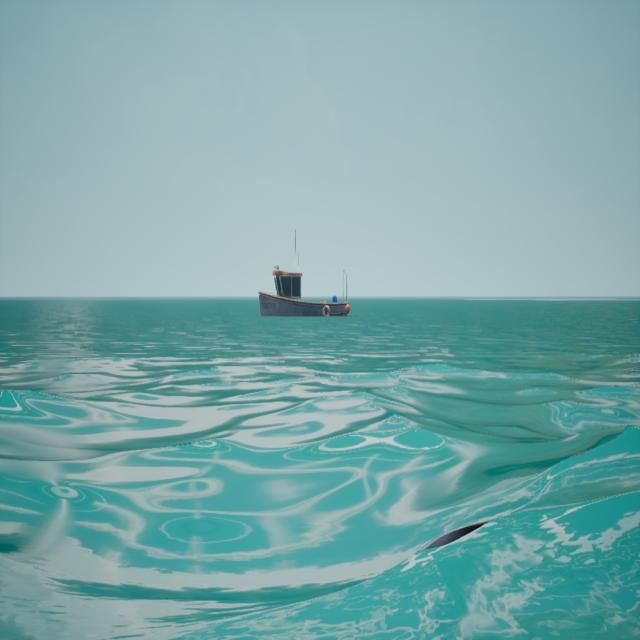ship: (248, 218, 360, 327)
